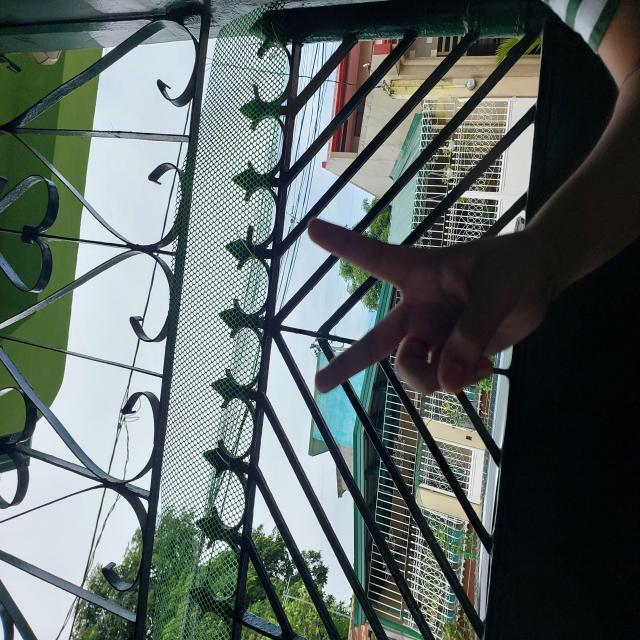V: (242, 304, 426, 547)
